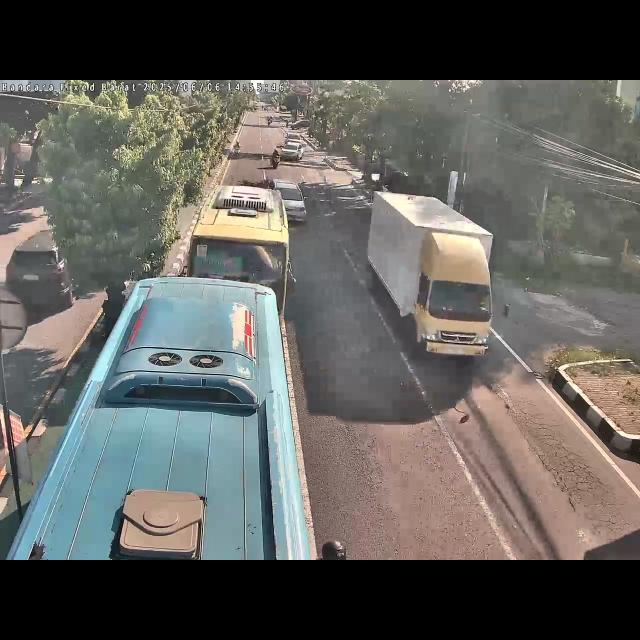Bis: (7, 269, 353, 559), (182, 182, 298, 342)
Truk: (362, 185, 500, 371)
